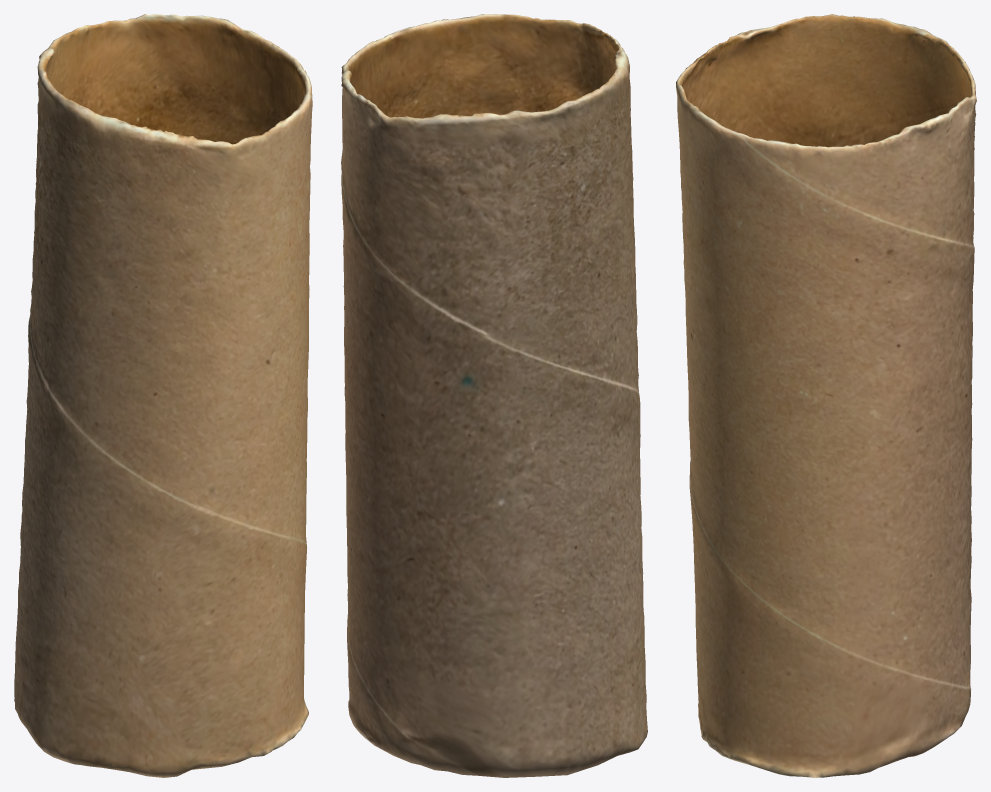
File: 3DModel.obj
3 views of the same model, side by side, from view 1: azimuth 30°, elevation 25°; view 2: azimuth 150°, elevation 25°; view 3: azimuth 270°, elevation 25° (orthographic). The views are drawn at different scales.
Parts seen in each view (by area): view 1: 3DModel; view 2: 3DModel; view 3: 3DModel.
Boxes of the visible parts, box(x1,y1,x2,y2) form: 3DModel: box(14, 14, 312, 777); 3DModel: box(341, 14, 647, 777); 3DModel: box(676, 14, 976, 777).
Size of the model in its own units: 0.0499 by 0.1205 by 0.0493.
1 material, 1 textured.
